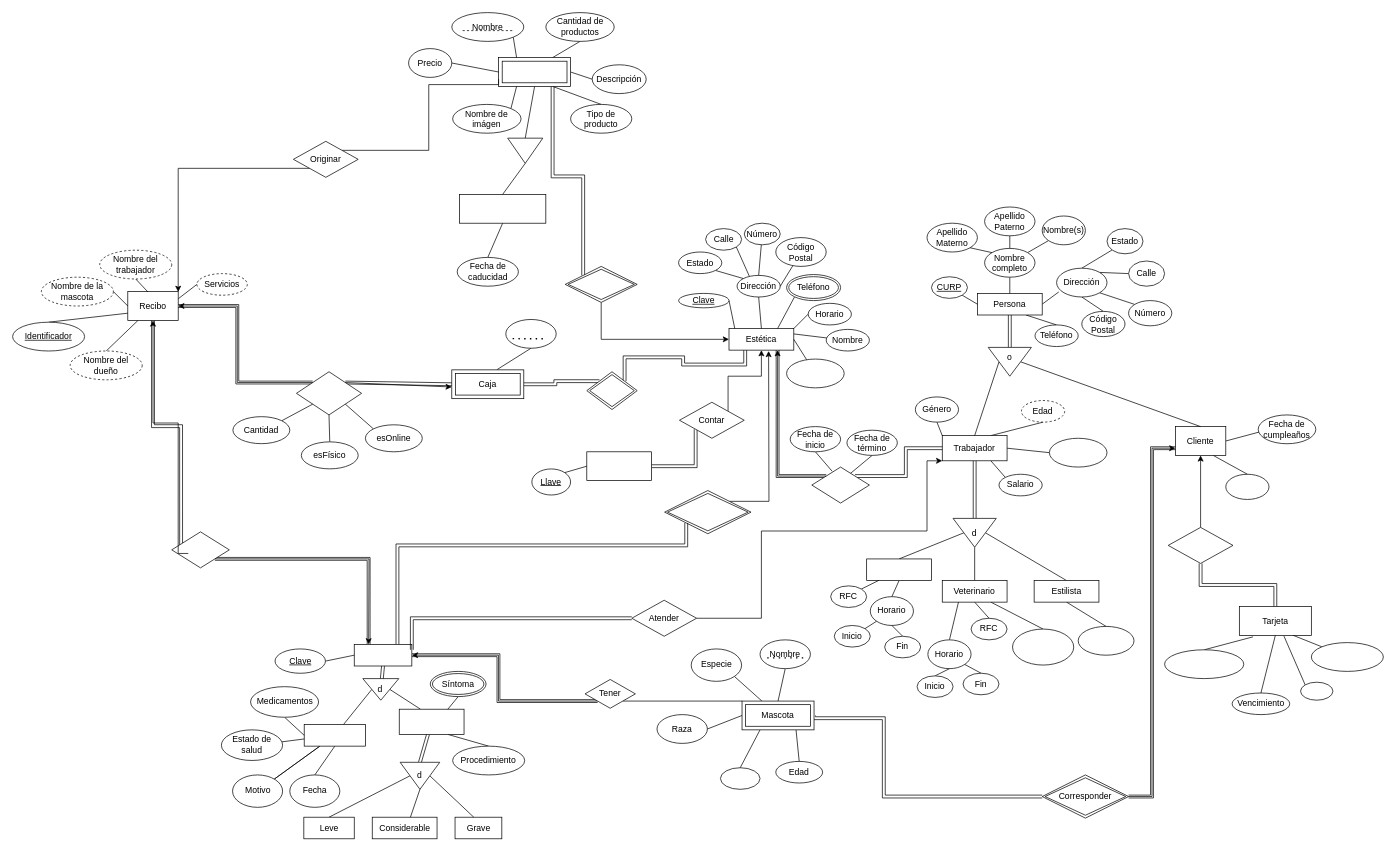
This 1396x852 diagram has some shape labels left out. Here are the shapes that lost their labels. From the top down, the centre of each, then its label:
At point 534,71: "Producto".
At point 502,208: "ProductoCaducable".
At point 600,284: "Pertenecer".
At point 530,333: "No. caja".
At point 329,393: "Pagar".
At point 611,390: "Estar".
At point 815,373: "Num de consultorios".
At point 619,466: "Apartado".
At point 1078,452: "Fecha de nacimiento".
At point 840,484: "Laborar".
At point 1247,486: "e-mail".
At point 707,512: "Llevarse a cabo".
At point 200,549: "Generar".
At point 1200,545: "Poseer".
At point 898,569: "Supervisor".
At point 383,655: "Consulta".
At point 1043,646: "No. de pacientes activos".
At point 1105,640: "No. Certificado".
At point 1347,656: "Nombre del titular".
At point 1204,664: "Número de tarjeta".
At point 1316,690: "CVV".
At point 334,735: "Normal".
At point 431,721: "Emergencia".
At point 740,778: "Peso".
